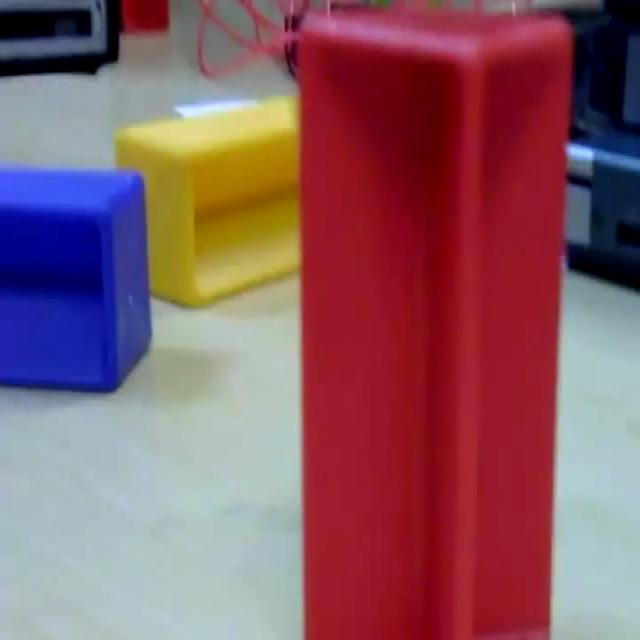blue_block: (0, 163, 152, 393)
red_block: (296, 8, 574, 636)
yellow_block: (113, 91, 301, 308)
